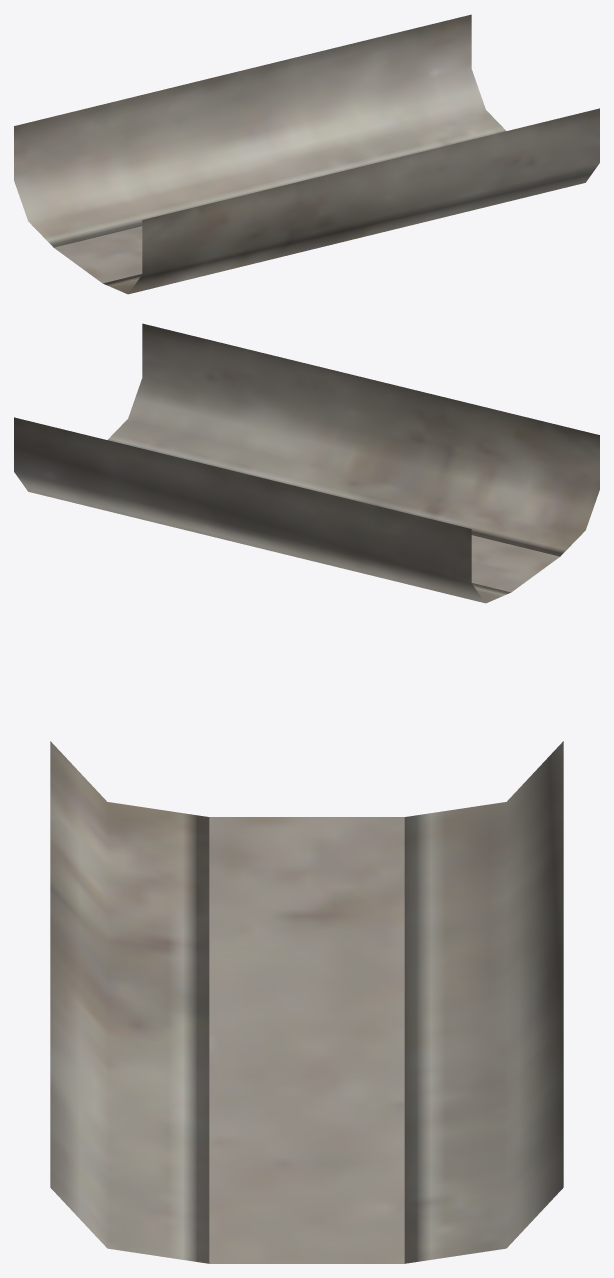
The model's file is lab_ceiling_welder_tiny.dae.
3 renders of one model, top to bottom at view 1: azimuth 30°, elevation 25°; view 2: azimuth 150°, elevation 25°; view 3: azimuth 270°, elevation 25°, orthographic. The views are drawn at different scales.
Visible parts, largest first — view 1: lab_ceiling_welder_tiny; view 2: lab_ceiling_welder_tiny; view 3: lab_ceiling_welder_tiny.
Boxes of the visible parts, x1,y1,x2,y2 form: lab_ceiling_welder_tiny: (14,14,599,294); lab_ceiling_welder_tiny: (14,323,599,603); lab_ceiling_welder_tiny: (50,741,563,1263).
Size of the model in its own units: 0.5 by 0.0965 by 0.2426.
